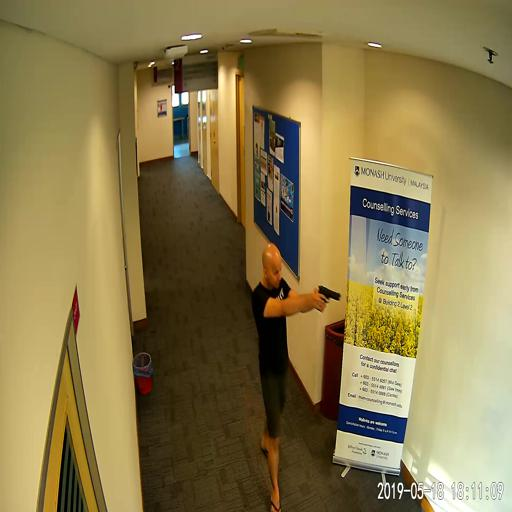pistol: (317, 284, 340, 313)
